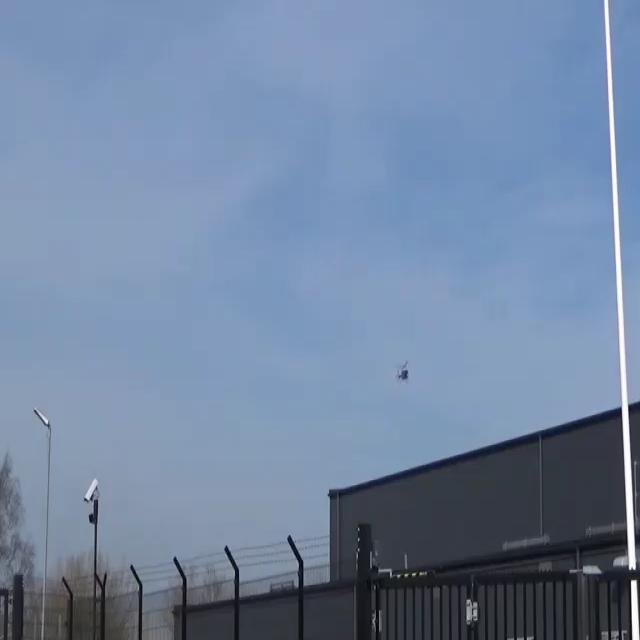Helicopter: (389, 351, 421, 393)
